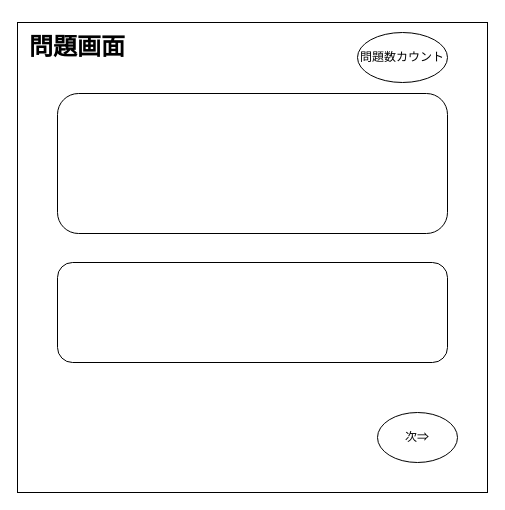
Some shapes in this 505 by 510 pixel diagram are drawn without their labels. Each missing label, with the box of its shape:
問題文: (56, 92, 448, 234)
選択肢① 選択肢② 選択肢③ 選択肢④: (56, 262, 448, 362)
